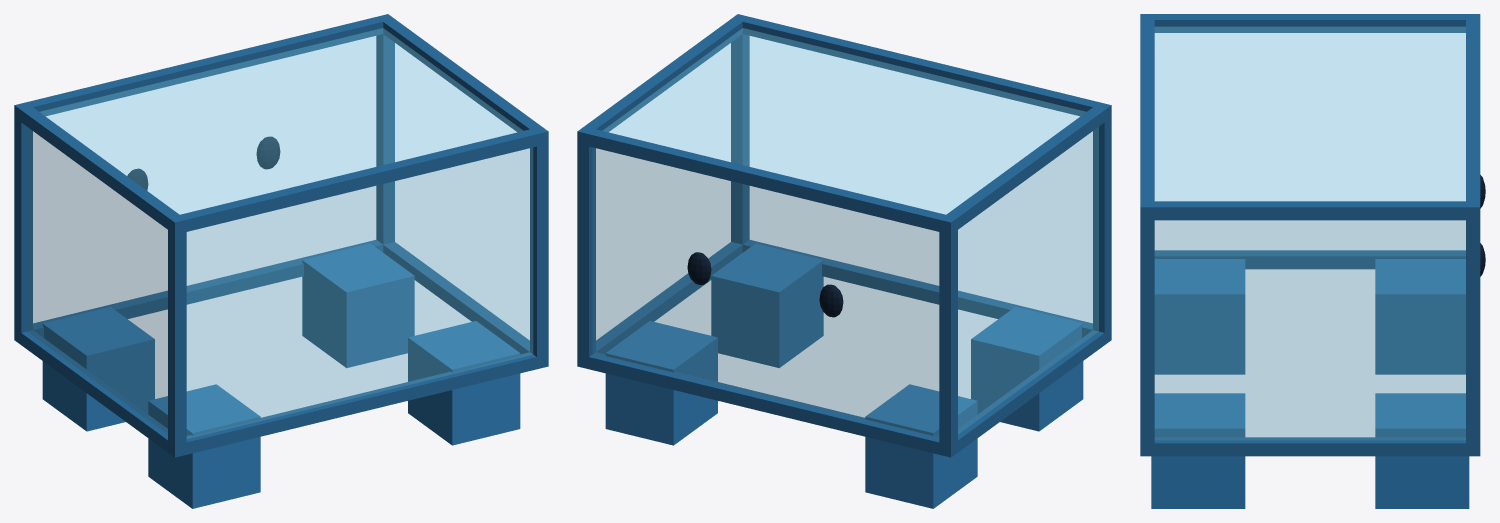
File: ClearCrawler_Enemy.gltf
3 views of the same model, side by side, from view 1: azimuth 30°, elevation 25°; view 2: azimuth 150°, elevation 25°; view 3: azimuth 270°, elevation 25° (orthographic). The views are drawn at different scales.
Parts seen in each view (by area): view 1: ClearBody, FootRF, FootRB, FootLF, FootLB, RailTopBack, RailTopFront, RailBottomBack, EdgeLBack, EdgeRBack, EdgeLFront, RailBottomFront (+6 smaller); view 2: ClearBody, FootRB, FootRF, FootLB, FootLF, RailTopFront, RailTopBack, RailBottomFront, EdgeLFront, EdgeRFront, EdgeLBack, RailBottomBack (+7 smaller); view 3: ClearBody, FootLB, FootLF, FootRB, FootRF, RailTopR, RailBottomR, RailTopL, RailBottomL, EdgeRBack, EdgeRFront, RailTopBack (+1 smaller).
Boxes of the visible parts, box(x1,y1,x2,y2) form: ClearBody: box(27, 28, 532, 438); FootRF: box(302, 243, 414, 367); FootRB: box(408, 321, 520, 445); FootLF: box(42, 307, 154, 431); FootLB: box(148, 384, 260, 508); RailTopBack: box(168, 126, 548, 233); RailTopFront: box(14, 14, 394, 121); RailBottomBack: box(168, 352, 548, 457); EdgeLBack: box(168, 220, 186, 455); EdgeRBack: box(530, 133, 548, 367); EdgeLFront: box(14, 107, 32, 343); RailBottomFront: box(14, 240, 383, 343); ClearBody: box(593, 28, 1098, 438); FootRB: box(711, 243, 823, 367); FootRF: box(605, 321, 717, 445); FootLB: box(971, 307, 1083, 431); FootLF: box(865, 384, 977, 508); RailTopFront: box(577, 126, 957, 234); RailTopBack: box(731, 14, 1111, 116); RailBottomFront: box(577, 352, 957, 457); EdgeLFront: box(939, 219, 957, 455); EdgeRFront: box(577, 133, 595, 367); EdgeLBack: box(1093, 107, 1111, 343); RailBottomBack: box(742, 240, 1111, 344); ClearBody: box(1155, 27, 1465, 439); FootLB: box(1154, 259, 1245, 374); FootLF: box(1375, 259, 1465, 374); FootRB: box(1151, 393, 1245, 508); FootRF: box(1375, 393, 1469, 508); RailTopR: box(1141, 201, 1479, 220); RailBottomR: box(1141, 437, 1477, 456); RailTopL: box(1141, 14, 1479, 32); RailBottomL: box(1154, 250, 1465, 269); EdgeRBack: box(1140, 209, 1154, 454); EdgeRFront: box(1466, 209, 1480, 454); RailTopBack: box(1140, 14, 1154, 220).
Bounding box in the file's own units: 1.75 × 1.33 × 1.33.
